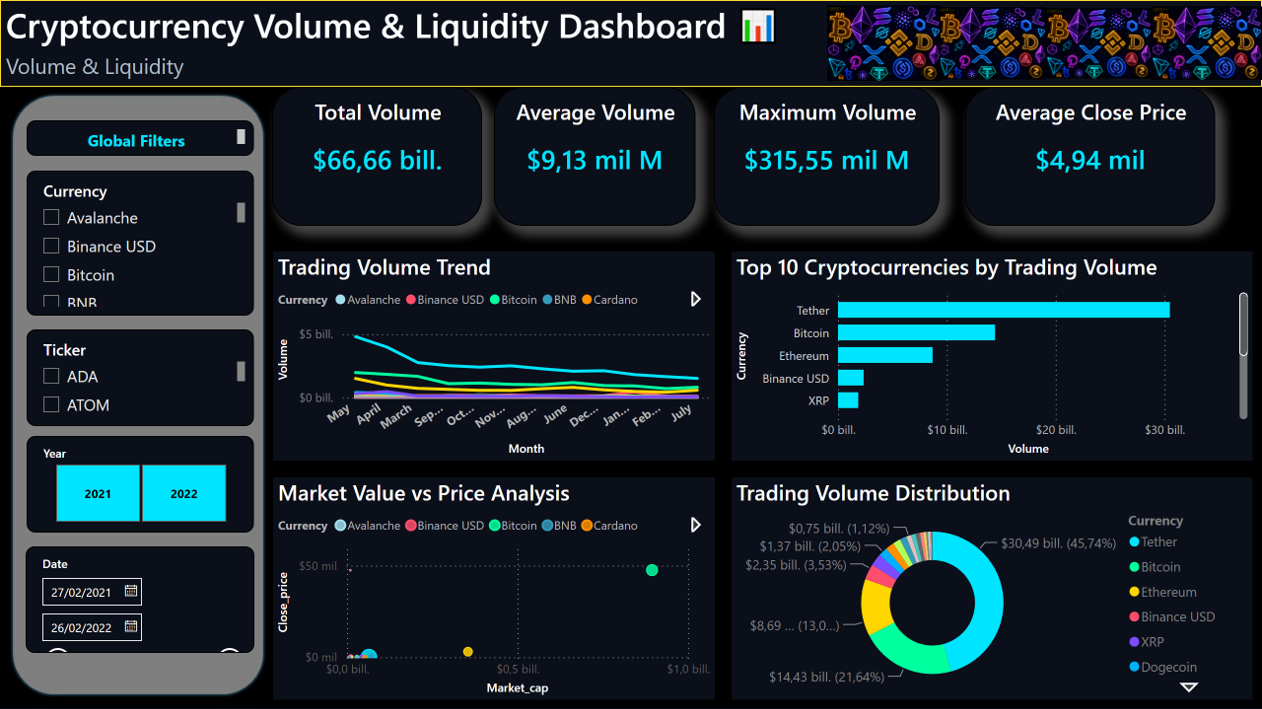

Layout of this report page (visuals, bound fields, positions):
{"tool":"powerbi","page":{"name":"VOLUME & LIQUIDITY","canvas":[1280,720],"ordinal":3},"visuals":[{"type":"card","title":"Total Volume","fields":{"Values":["crypto_history.Total Volume"]},"box":[276.5,87.8,213.1,141.1],"z":0},{"type":"card","title":"Average Volume","fields":{"Values":["crypto_history.Average Volume"]},"box":[501.1,87.8,204.5,141.1],"z":1000},{"type":"card","title":"Maximum Volume","fields":{"Values":["crypto_history.Maximum Volume"]},"box":[724.3,87.8,229,141.1],"z":2000},{"type":"card","title":"Average Close Price","fields":{"Values":["crypto_history.Average Close Price"]},"box":[979.2,87.8,253.4,141.1],"z":3000},{"type":"lineChart","title":"Trading Volume Trend","fields":{"Y":["Sum(crypto_history.Volume)"],"Series":["crypto_history.Currency"],"Category":["Calendar.Month Name"]},"box":[276.6,254.6,447.8,212.2],"z":4000},{"type":"clusteredBarChart","title":"Top 10 Cryptocurrencies by Trading Volume","fields":{"Category":["crypto_history.Currency"],"Y":["Sum(crypto_history.Volume)"]},"box":[742,254.6,528.3,212.2],"z":5000},{"type":"scatterChart","title":"Market Value vs Price Analysis","fields":{"X":["Avg(crypto_history.Market_cap)"],"Series":["crypto_history.Currency"],"Y":["Avg(crypto_history.Close_price)"],"Size":["Avg(crypto_history.Volume)"]},"box":[276.6,484.4,447.8,225.4],"z":6000},{"type":"donutChart","title":"Trading Volume Distribution","fields":{"Category":["crypto_history.Currency"],"Y":["Sum(crypto_history.Volume)"]},"box":[742,484.4,528.3,225.4],"z":7000},{"type":"slicer","fields":{"Values":["crypto_history.Currency"]},"box":[27.4,172.8,230.4,146.9],"z":8000},{"type":"slicer","fields":{"Values":["crypto_history.Ticker"]},"box":[27.4,334.1,230.4,97.9],"z":9000},{"type":"slicer","fields":{"Values":["crypto_history.Date"]},"box":[25.9,554.4,231.8,108],"z":10000},{"type":"slicer","fields":{"Values":["Calendar.Year"]},"box":[27.4,442.1,230.4,97.9],"z":11000},{"type":"textbox","title":"Cryptocurrency Volume & Liquidity Dashboard 📊","box":[0,0,1280.2,87.8],"z":12000},{"type":"textbox","box":[27.4,122.4,230.4,36],"z":13000},{"type":"image","box":[1168.2,0,111.8,87.3],"z":14000},{"type":"image","box":[1061.1,0,107.2,87.3],"z":15000},{"type":"image","box":[950.8,0,110.2,87.3],"z":16000},{"type":"image","box":[839,0,114.8,87.3],"z":17000}]}

Visuals, with their boxes in screenshot pixels (x1, y1, x2, y2), scaled from the page's 1280x720 canvas onto the 1262x709 screenshot:
"Total Volume" card: <region>273, 86, 483, 225</region>
"Average Volume" card: <region>494, 86, 696, 225</region>
"Maximum Volume" card: <region>714, 86, 940, 225</region>
"Average Close Price" card: <region>965, 86, 1215, 225</region>
"Trading Volume Trend" lineChart: <region>273, 251, 714, 460</region>
"Top 10 Cryptocurrencies by Trading Volume" clusteredBarChart: <region>732, 251, 1252, 460</region>
"Market Value vs Price Analysis" scatterChart: <region>273, 477, 714, 699</region>
"Trading Volume Distribution" donutChart: <region>732, 477, 1252, 699</region>
slicer - crypto_history.Currency: <region>27, 170, 254, 315</region>
slicer - crypto_history.Ticker: <region>27, 329, 254, 425</region>
slicer - crypto_history.Date: <region>26, 546, 254, 652</region>
slicer - Calendar.Year: <region>27, 435, 254, 532</region>
"Cryptocurrency Volume & Liquidity Dashboard 📊" textbox: <region>0, 0, 1261, 86</region>
textbox: <region>27, 121, 254, 156</region>
image: <region>1152, 0, 1261, 86</region>
image: <region>1046, 0, 1152, 86</region>
image: <region>937, 0, 1046, 86</region>
image: <region>827, 0, 940, 86</region>
